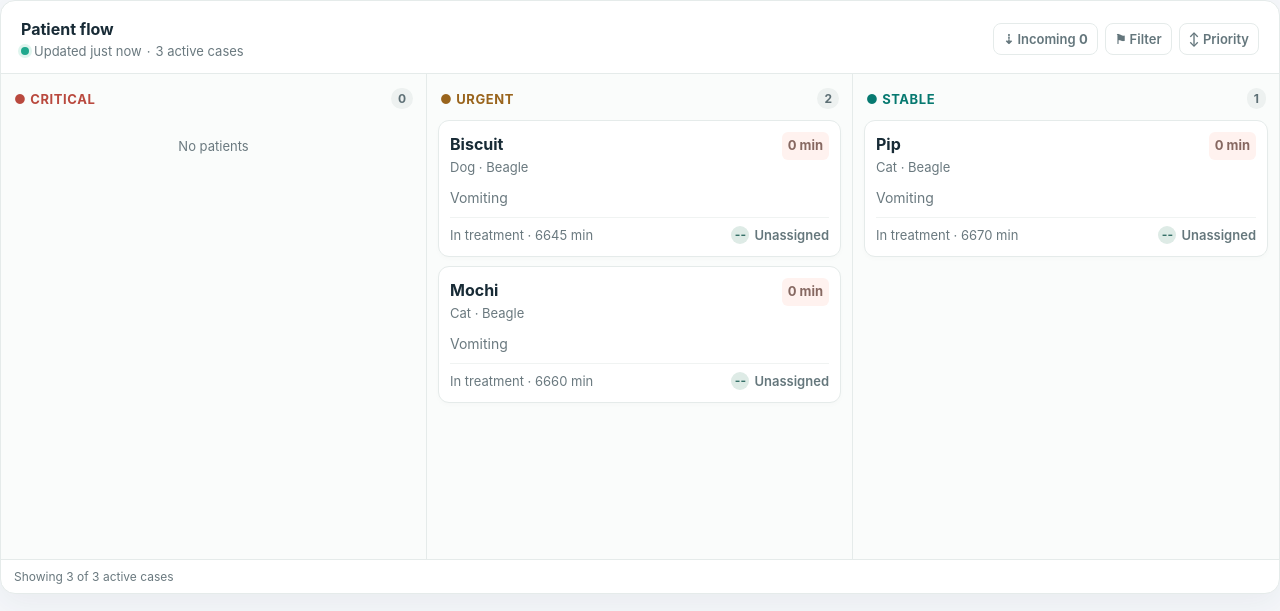
PatientFlowBoard › Priority button › keeps the order with a Filter menu choice, with the counts unchanged
Click the button with aria-label "Priority, longest in stage first" at {"x": 1219, "y": 39}, box [1179,23,1259,55]
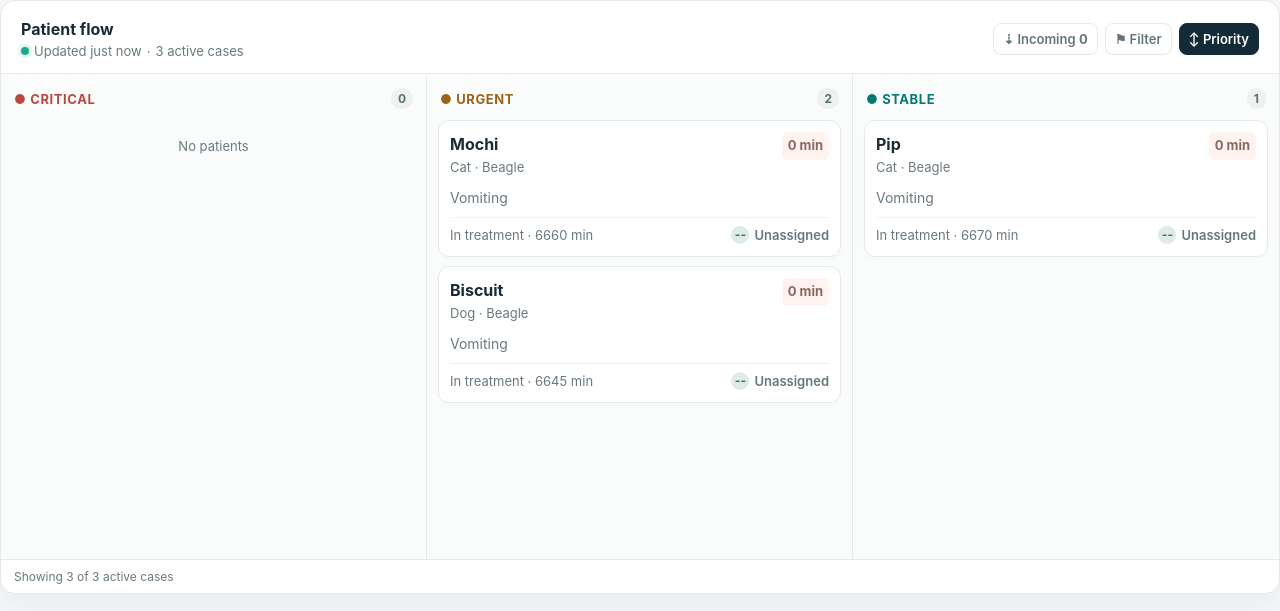
Click the button "⚑ Filter" at {"x": 1138, "y": 39}, box [1105,23,1172,55]
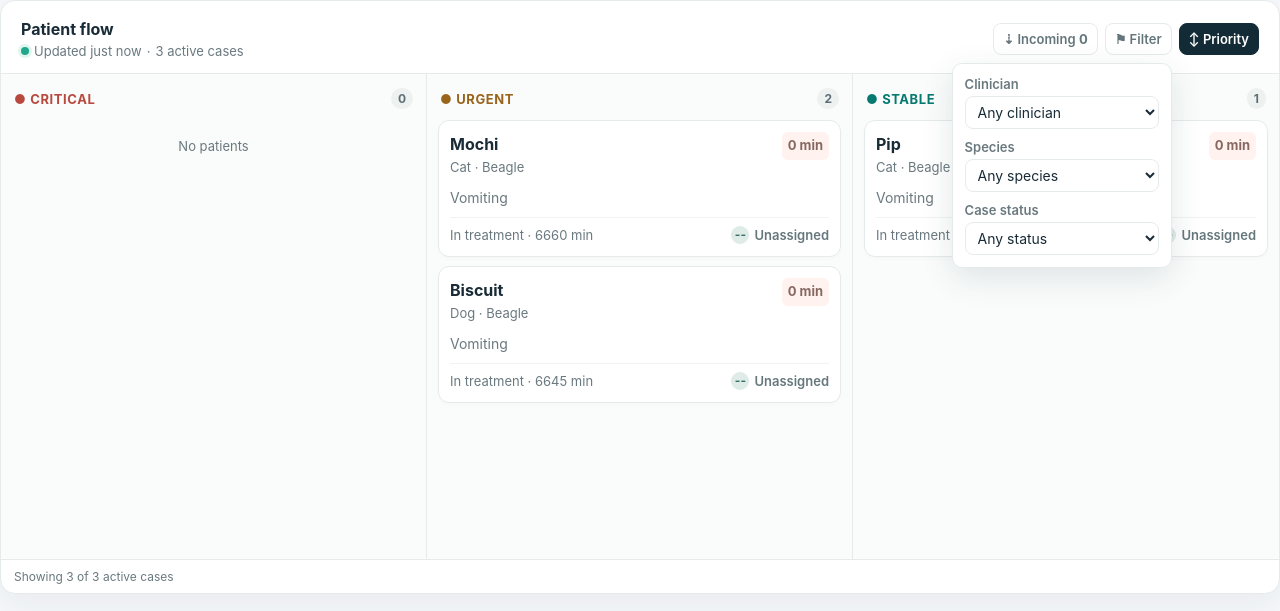
Select "Cat" in the dropdown labelled "Species" at {"x": 1062, "y": 176}, box [965,159,1159,192]
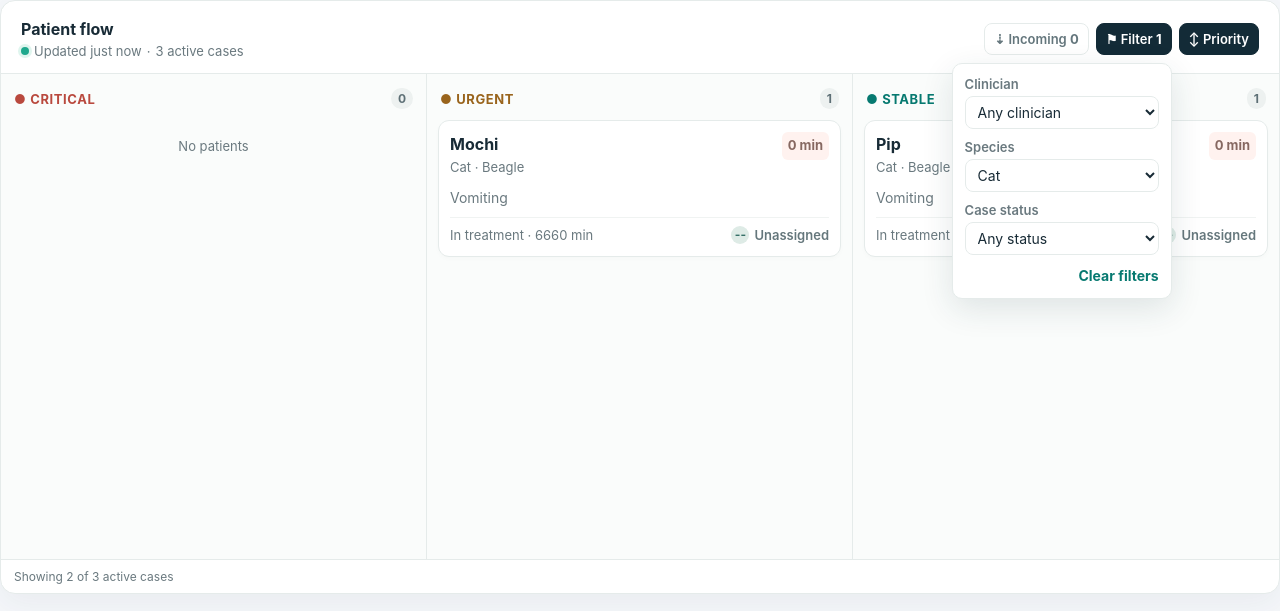
Expected: the text "Showing 2 of 3 active cases" is shown, [1,559,1279,593]
